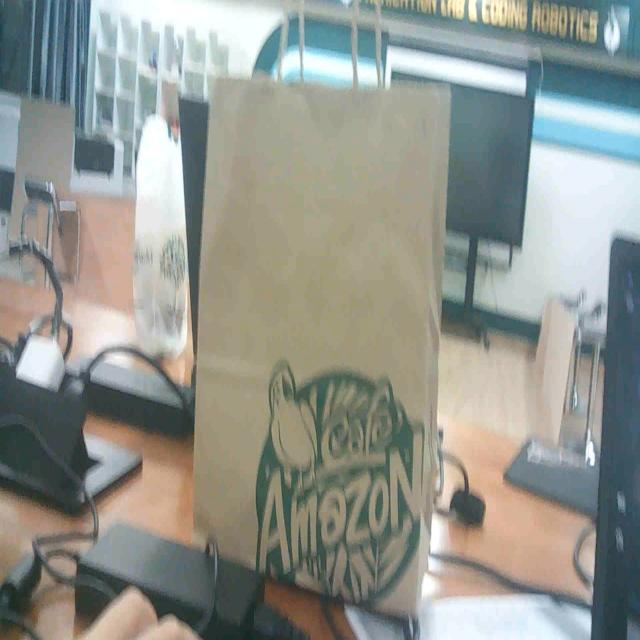bag: (180, 48, 458, 615)
